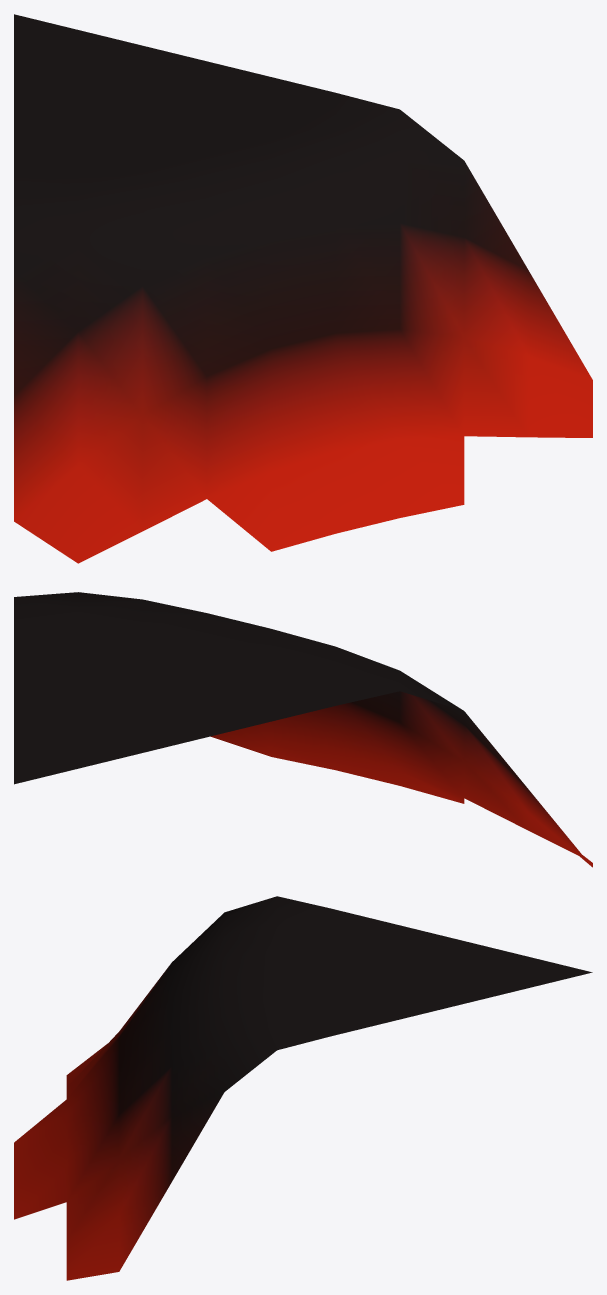
File: MODULE_LAVA_OUT.fbx
3 views of the same model, one above another, from view 1: azimuth 30°, elevation 25°; view 2: azimuth 150°, elevation 25°; view 3: azimuth 270°, elevation 25° (orthographic). The views are drawn at different scales.
Parts seen in each view (by area): view 1: MODULE_LAVA_OUT__export; view 2: MODULE_LAVA_OUT__export; view 3: MODULE_LAVA_OUT__export.
Part boxes in pixels (x1,y1,x2,y2): MODULE_LAVA_OUT__export: (14,14,592,563); MODULE_LAVA_OUT__export: (14,592,592,867); MODULE_LAVA_OUT__export: (14,896,592,1280).
Size of the model in its own units: 56.25 by 23.68 by 59.54.
